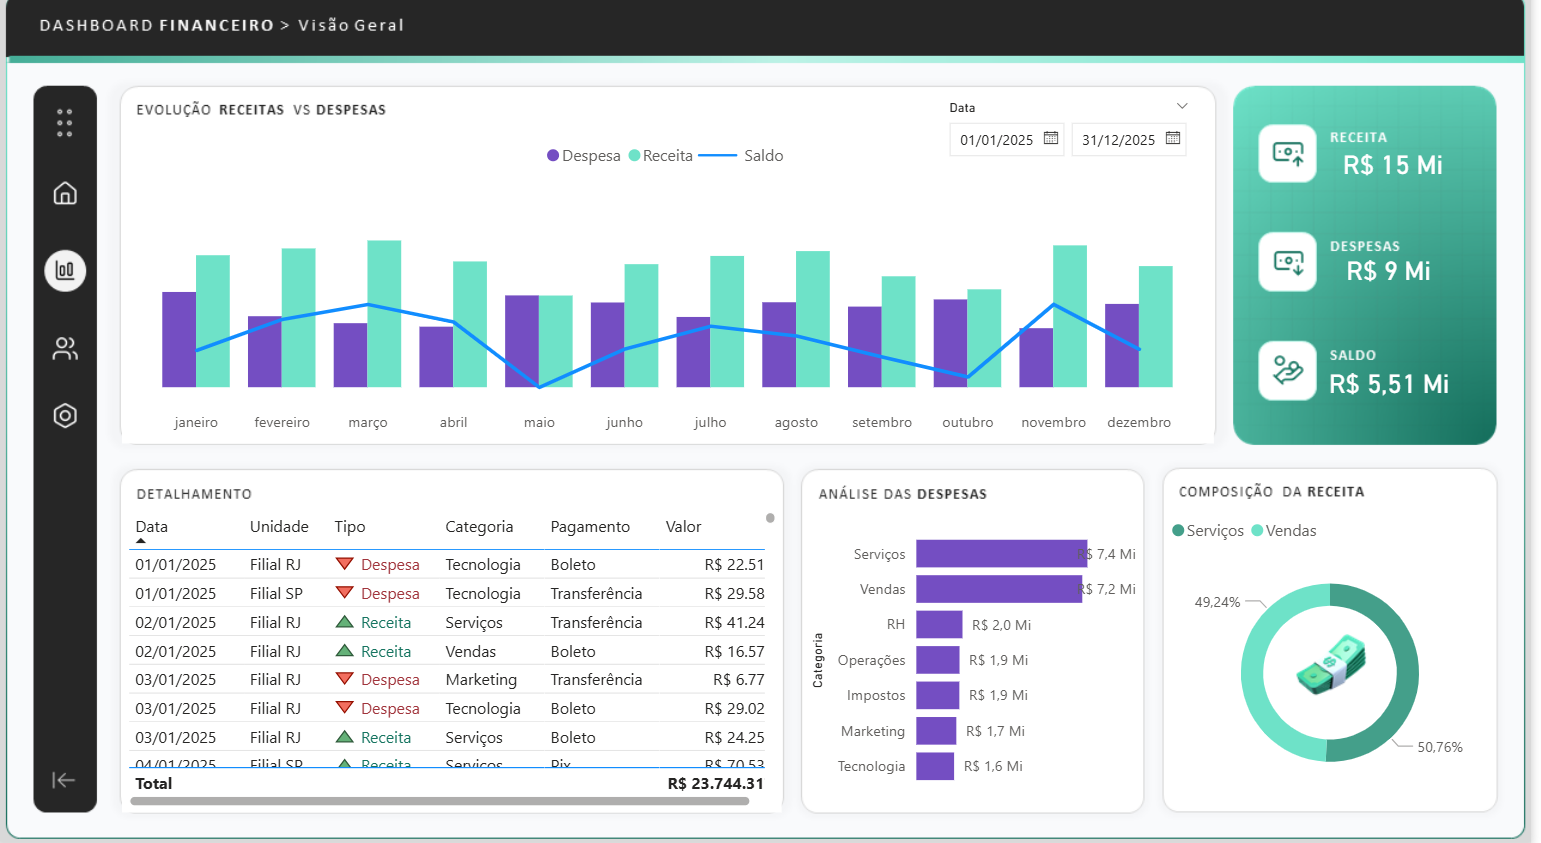

Layout of this report page (visuals, bound fields, positions):
{"tool":"powerbi","page":{"name":"Página 1","canvas":[1280,720],"ordinal":0},"visuals":[{"type":"lineClusteredColumnComboChart","fields":{"Category":["Extrato.Data.Variation.Hierarquia de datas.Ano","Extrato.Data.Variation.Hierarquia de datas.Trimestre","Extrato.Data.Variation.Hierarquia de datas.Mês","Extrato.Data.Variation.Hierarquia de datas.Dia"],"Y":["Sum(Extrato.Valor)"],"Series":["Extrato.Tipo_Movimentacao"],"Y2":["Sum(Extrato.Saldo)"]},"box":[102.7,121.1,912.1,261.4],"z":0},{"type":"card","fields":{"Values":["Sum(Extrato.Saldo)"]},"box":[1085.8,303.2,150.3,56.8],"z":1},{"type":"card","fields":{"Values":["Sum(Extrato.Valor)"]},"box":[1099.2,208,122.8,58.5],"z":2},{"type":"card","fields":{"Values":["Sum(Extrato.Valor)"]},"box":[1099.2,110.3,130.3,77.7],"z":3},{"type":"barChart","fields":{"Category":["Extrato.Categoria","Extrato.Subcategoria","Extrato.Fornecedor"],"Y":["Sum(Extrato.Valor)"]},"box":[673.2,437.7,281.5,243.1],"z":4},{"type":"donutChart","fields":{"Y":["Sum(Extrato.Valor)"],"Category":["Extrato.Categoria"]},"box":[973.9,434.3,275.6,249.7],"z":5},{"type":"tableEx","fields":{"Values":["Extrato.Data","Extrato.Unidade","Extrato.Tipo_Movimentacao","Extrato.Categoria","Extrato.Forma_Pagamento","Sum(Extrato.Valor)"]},"box":[102.7,434.3,551.3,256.4],"z":6},{"type":"slicer","fields":{"Values":["Extrato.Data"]},"box":[781,90.2,224.7,87.7],"z":7}]}

Visuals, with their boxes on the page's 1280x720 design canvas (x1, y1, x2, y2). These are canvas units, not pixel positions in the 1541x843 screenshot, which may show the page scaled, cropped or inside an application window:
lineClusteredColumnComboChart - Extrato.Data.Variation.Hierarquia de datas.Ano x Extrato.Data.Variation.Hierarquia de datas.Trimestre: locate(103, 121, 1015, 382)
card - Sum(Extrato.Saldo): locate(1086, 303, 1236, 360)
card - Sum(Extrato.Valor): locate(1099, 208, 1222, 266)
card - Sum(Extrato.Valor): locate(1099, 110, 1230, 188)
barChart - Extrato.Categoria x Extrato.Subcategoria: locate(673, 438, 955, 681)
donutChart - Sum(Extrato.Valor) x Extrato.Categoria: locate(974, 434, 1250, 684)
tableEx - Extrato.Data x Extrato.Unidade: locate(103, 434, 654, 691)
slicer - Extrato.Data: locate(781, 90, 1006, 178)
